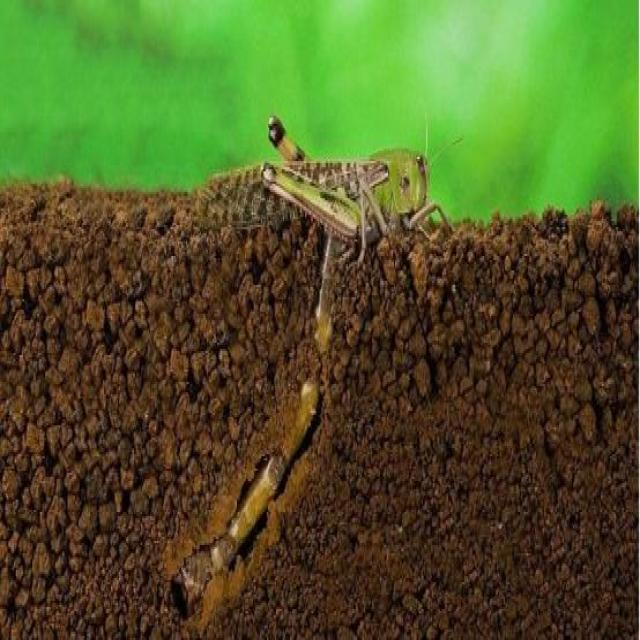ZhaMeng: (171, 110, 460, 248)
